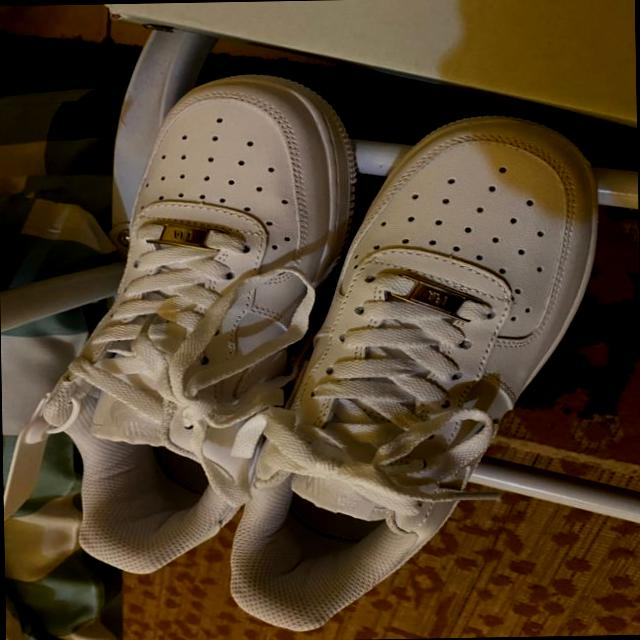nike_original_airforce: (208, 106, 612, 635), (12, 70, 364, 576)
